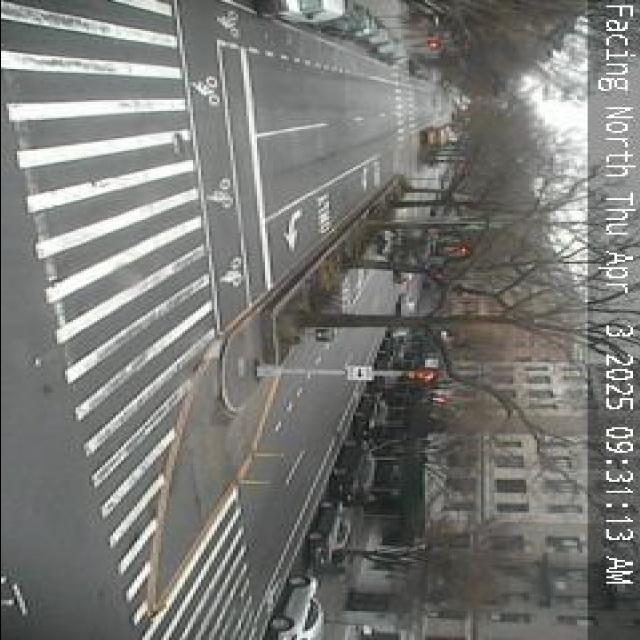open parking: (279, 332, 407, 628)
